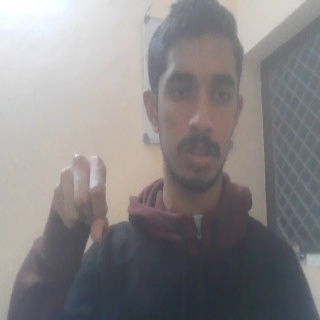Face: (144, 2, 244, 190)
Yes: (51, 153, 110, 247)
